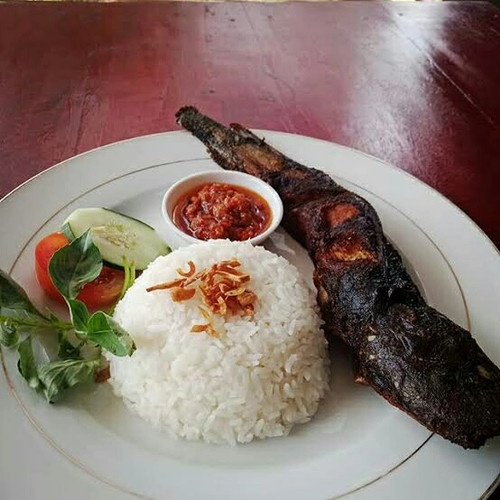pecel_lele: (312, 226, 499, 443)
